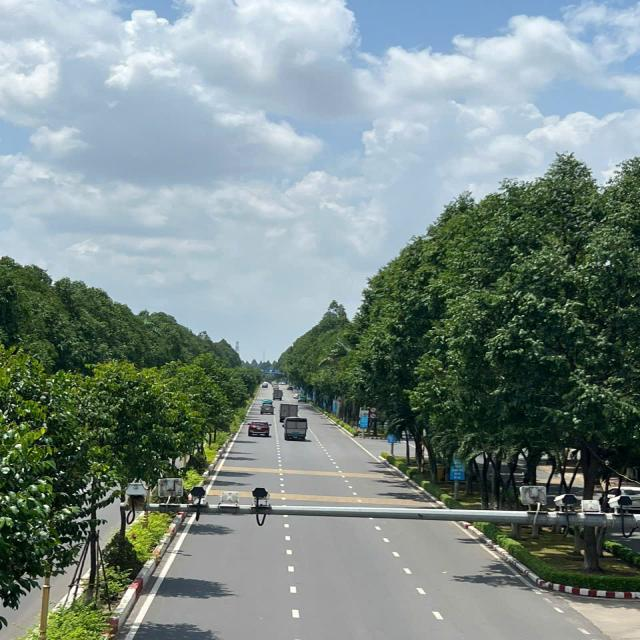ben: (281, 415, 311, 444), (278, 402, 300, 425), (272, 385, 286, 403)
car: (243, 417, 277, 441), (260, 402, 277, 414)
